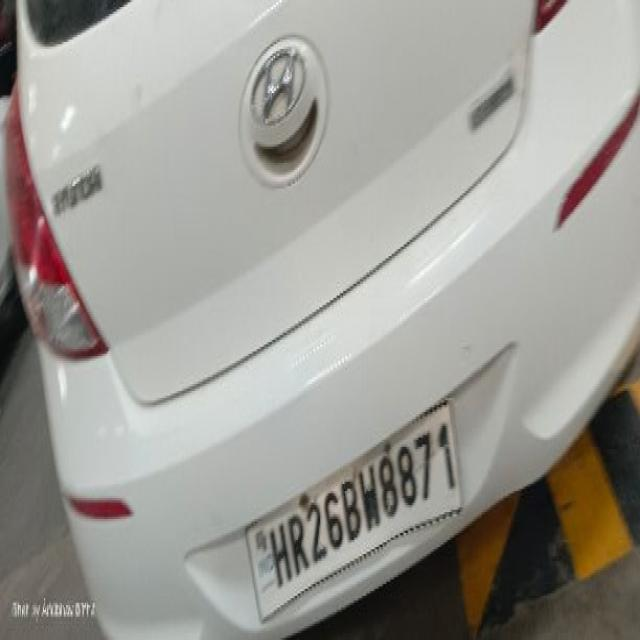license_plate: (4, 0, 636, 635), (244, 396, 462, 621)
